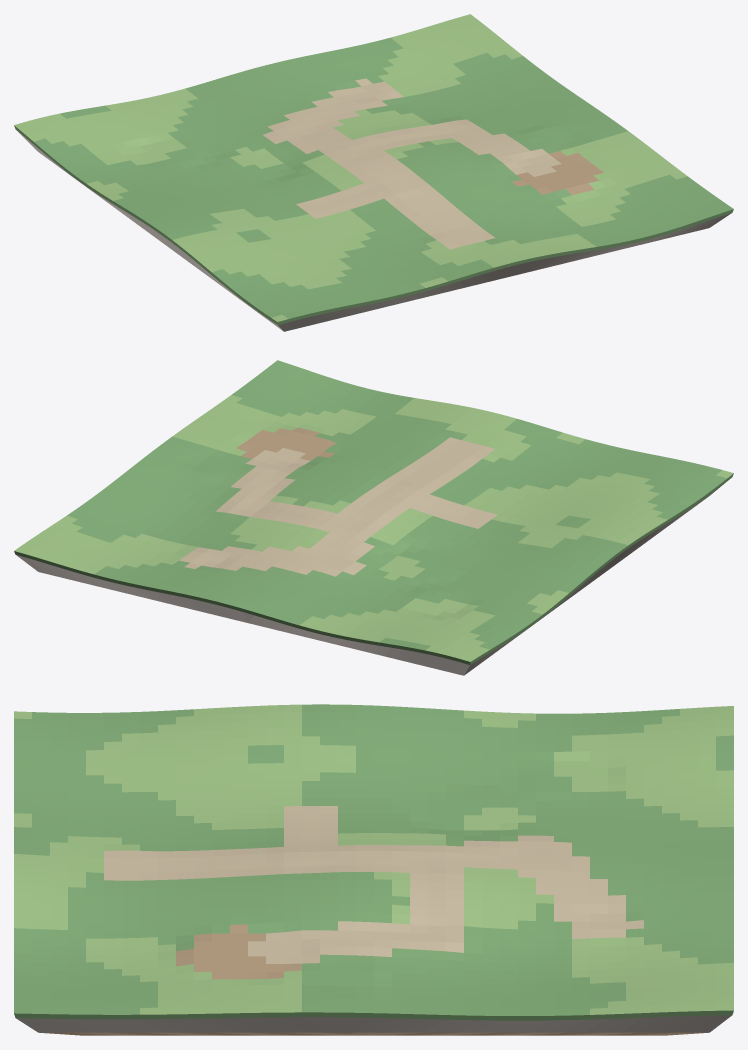
The model's file is ground.glb.
3 renders of one model, top to bottom at view 1: azimuth 30°, elevation 25°; view 2: azimuth 150°, elevation 25°; view 3: azimuth 270°, elevation 25°, orthographic. The views are drawn at different scales.
Parts seen in each view (by area): view 1: GroundTop; view 2: GroundTop; view 3: GroundTop.
Part boxes in pixels (x1,y1,x2,y2): GroundTop: [14, 14, 733, 331]; GroundTop: [14, 360, 733, 675]; GroundTop: [14, 704, 733, 1035].
Bounding box in the file's own units: 44 × 3.73 × 44.
